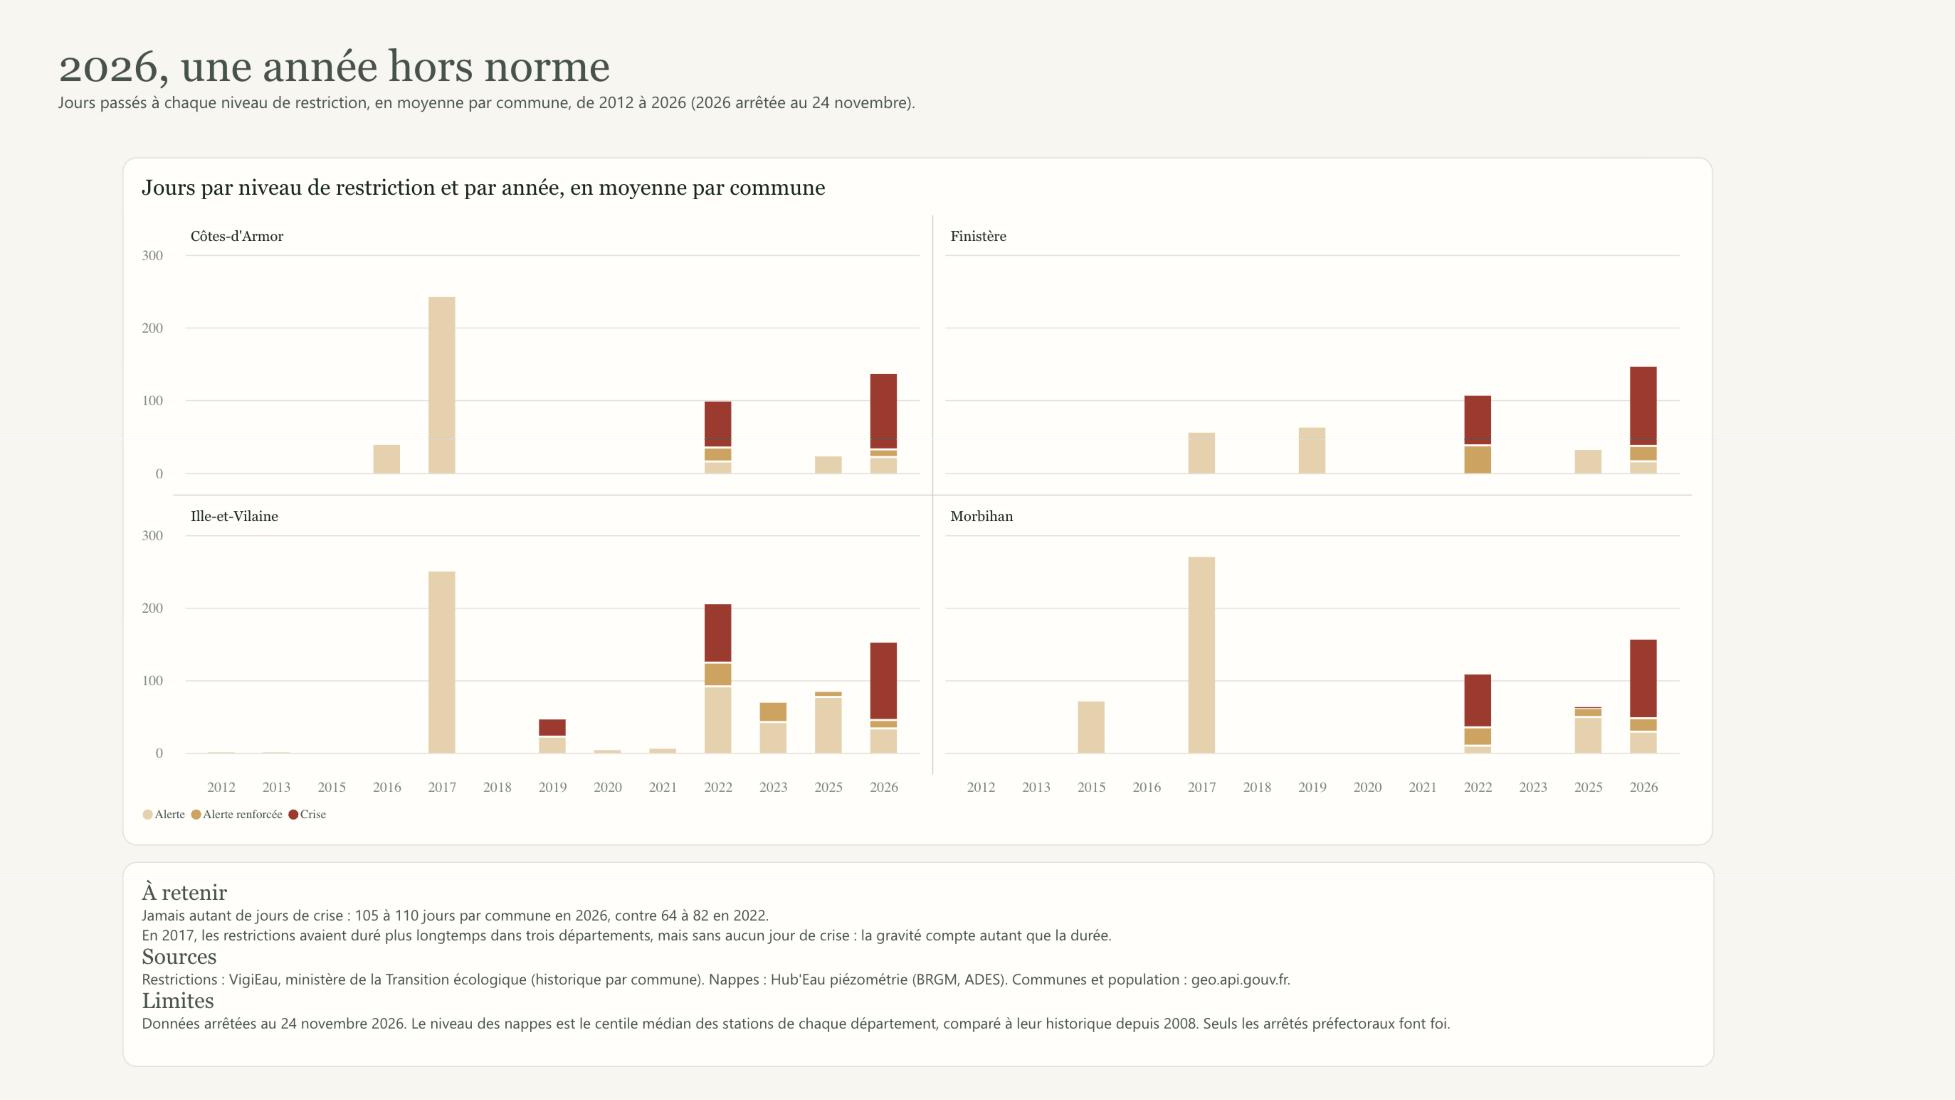

What the dashboard file says about the page in this screenshot:
{"tool":"powerbi","page":{"name":"Année par année","canvas":[1920,1080],"ordinal":2},"visuals":[{"type":"textbox","box":[40,24,1600,130],"z":0},{"type":"columnChart","title":"Jours par niveau de restriction et par année, en moyenne par commune","fields":{"Category":["dim_mois.annee"],"Rows":["dim_departement.departement"],"Y":["dim_commune.Jours d'alerte par commune","dim_commune.Jours d'alerte renforcée par commune","dim_commune.Jours de crise par commune"]},"box":[120.6,153.8,1561.3,676],"z":1000},{"type":"textbox","box":[120.6,847.2,1563,201.2],"z":2000}]}

Visuals, with their boxes in screenshot pixels (x1, y1, x2, y2), scaled from the page's 1920x1080 canvas onto the 1955x1100 screenshot:
textbox: l=41, t=24, r=1670, b=157
"Jours par niveau de restriction et par année, en moyenne par commune" columnChart: l=123, t=157, r=1713, b=845
textbox: l=123, t=863, r=1714, b=1068
